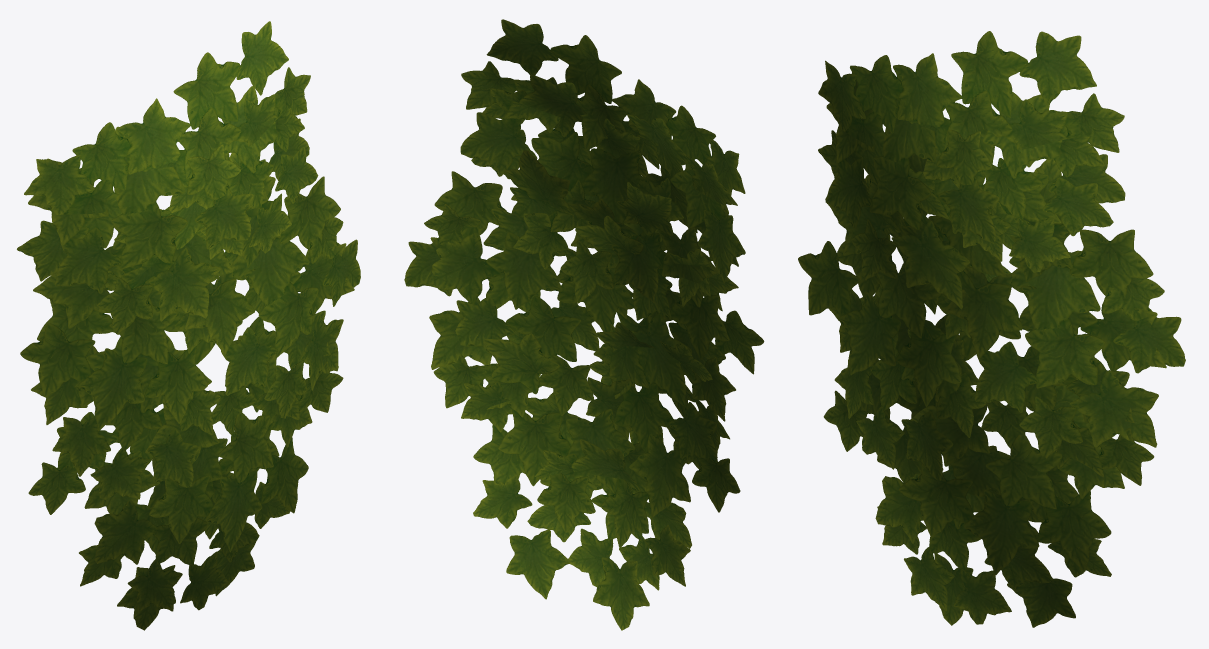
The model's file is MSH_fwOF_Ivy_01.fbx.
3 renders of one model, left to right at view 1: azimuth 30°, elevation 25°; view 2: azimuth 150°, elevation 25°; view 3: azimuth 330°, elevation 25°, orthographic. The views are drawn at different scales.
Parts seen in each view (by area): view 1: MSH_fwOF_Ivy_01_LOD0; view 2: MSH_fwOF_Ivy_01_LOD0; view 3: MSH_fwOF_Ivy_01_LOD0.
Boxes of the visible parts, x1,y1,x2,y2 form: MSH_fwOF_Ivy_01_LOD0: [17, 21, 360, 630]; MSH_fwOF_Ivy_01_LOD0: [404, 19, 764, 630]; MSH_fwOF_Ivy_01_LOD0: [798, 31, 1185, 627].
Size of what is drawn, in the model's own units: 0.6557 by 1.03 by 0.1332.
